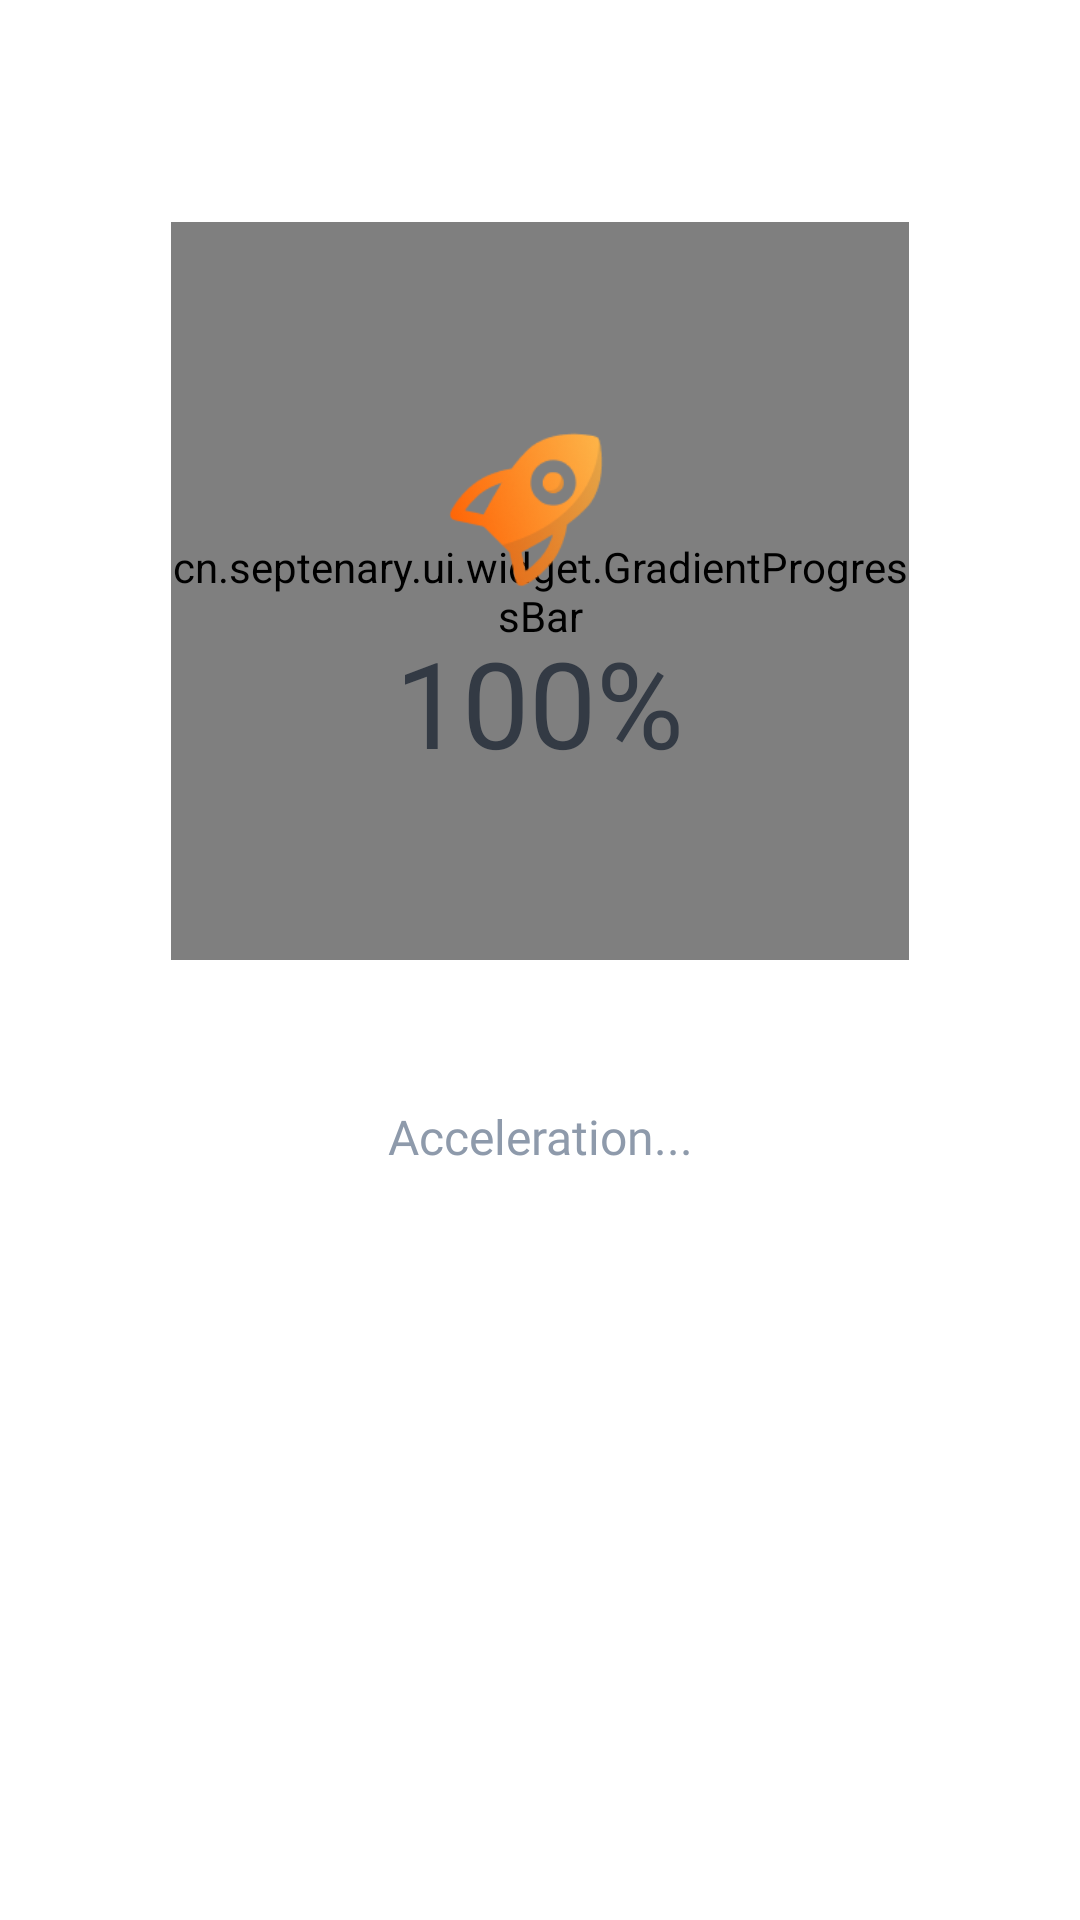

Screen size 1080px×1920px. Icon name, then its center in pixels as (x=x, y=y):
rocket: (x=540, y=512)
